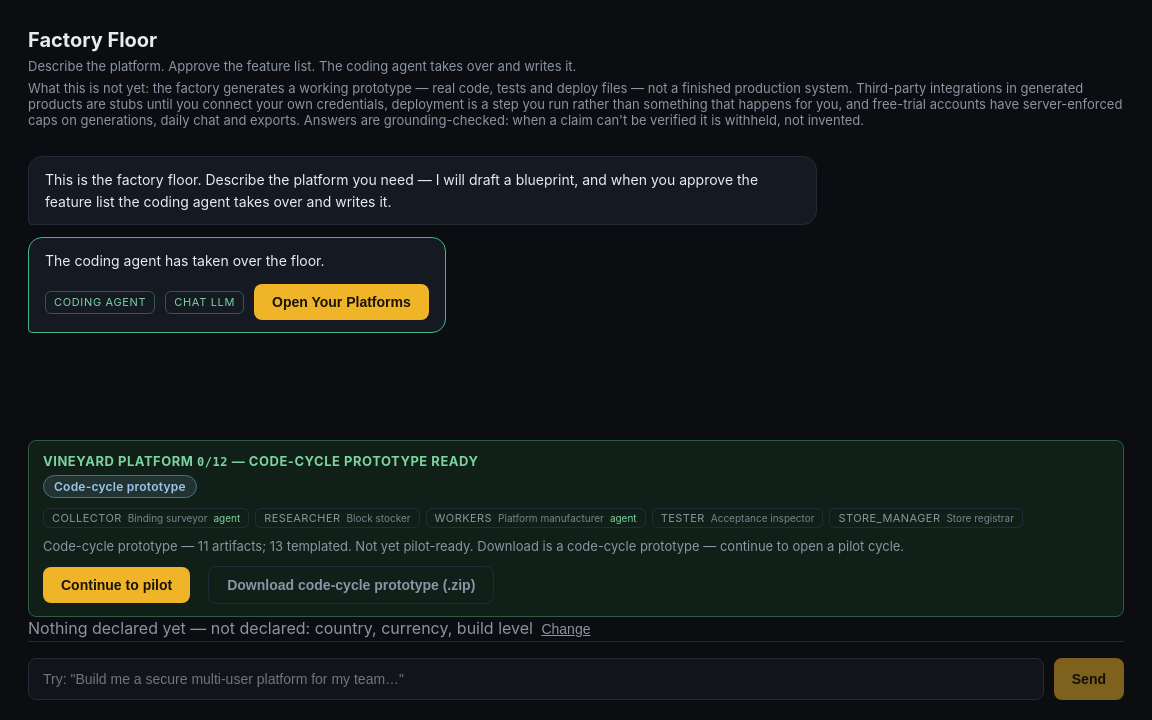
Test: Factory Floor — architect LLM then coding agent › Continue to pilot sends continue when auto-pilot is blocked
Step 1. Click the button "Continue to pilot" → (117, 585), box 43,567 -> 190,603
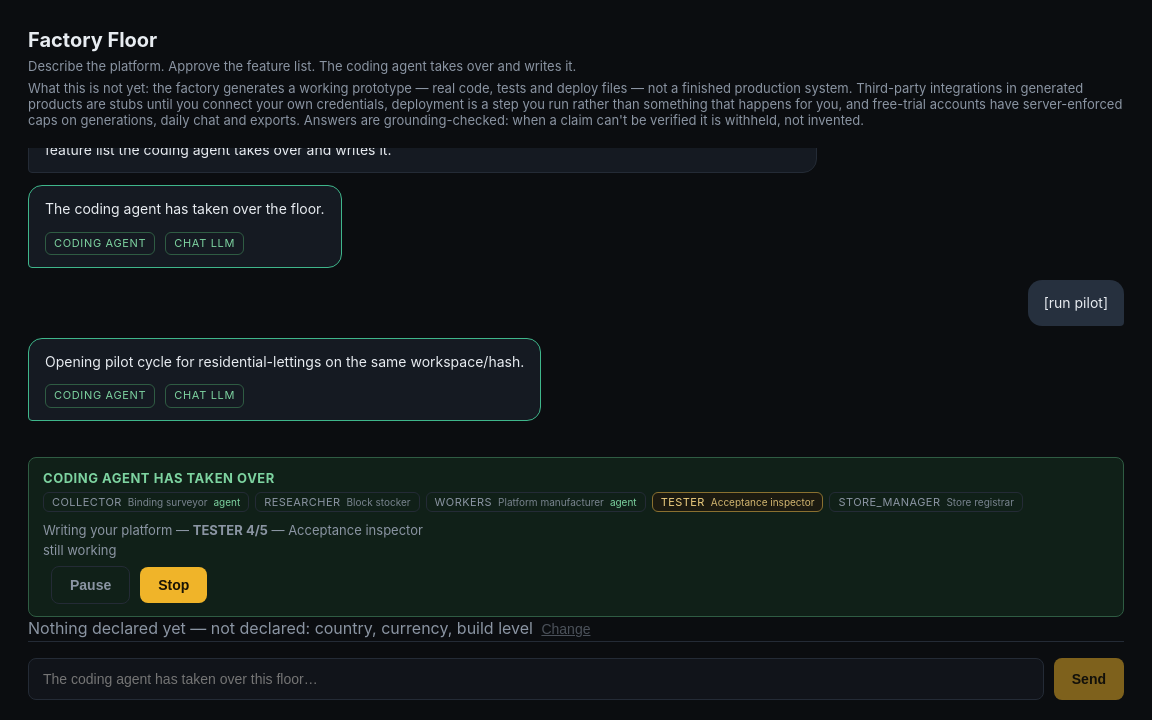
Expected: the heading "Coding agent has taken over" is shown, 43,470 -> 275,486
